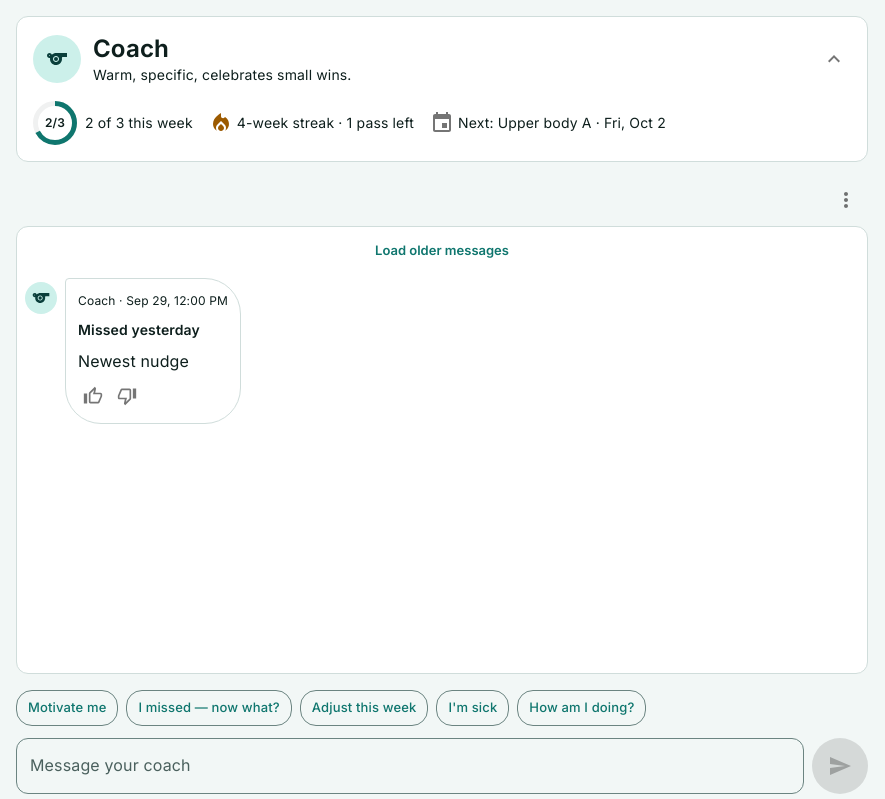
Test: CoachPage › timeline › loads an older page with the before cursor and prepends it
The image size is (885, 799).
Step 1. Click the button "Load older messages" → {"x": 442, "y": 250}, box [357, 235, 527, 266]
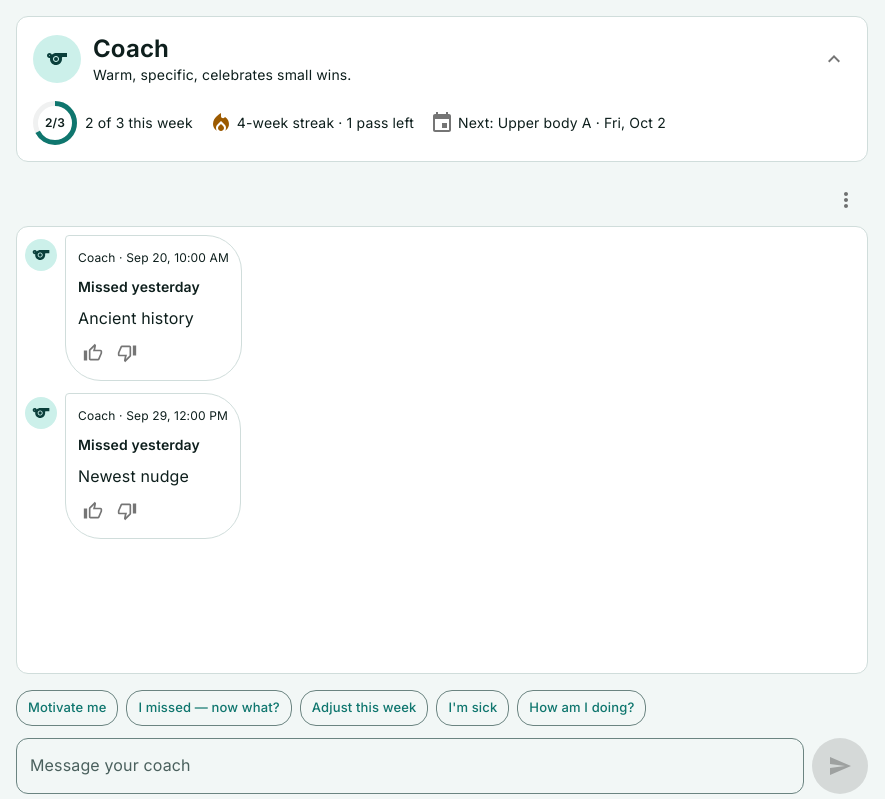
Now the text "Ancient history" is shown, box [78, 308, 194, 328]
Now the button "Load older messages" is gone
